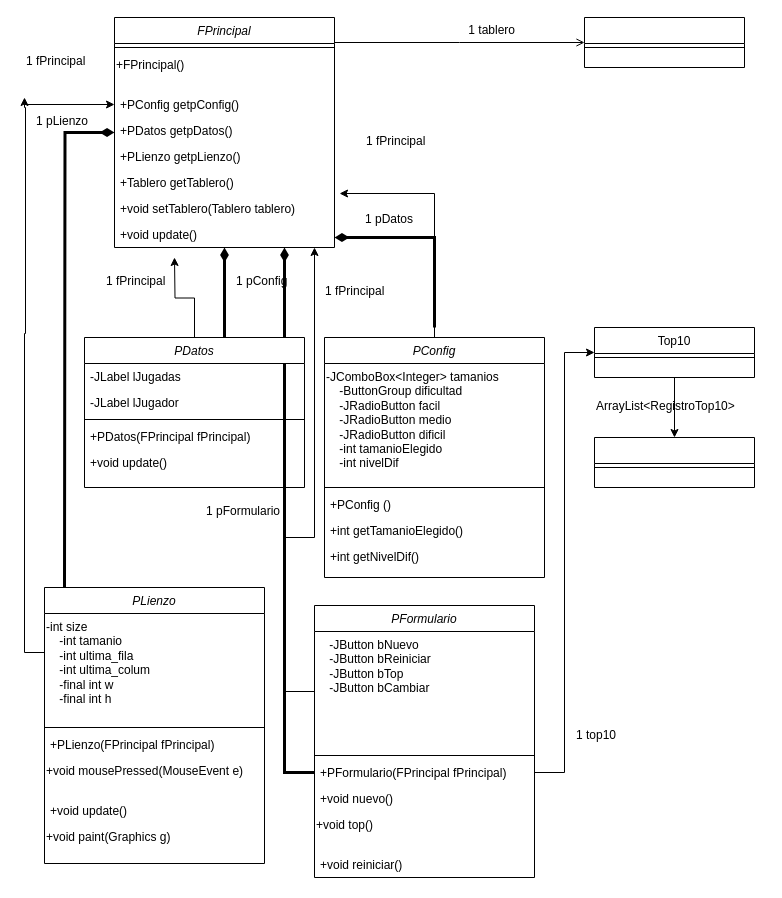
Image size: 782x898. Some labels were removed from this diagram. Here are the shapes that lost their labels. From the top down, the centre of each, then its label:
At (664,42): "Tablero".
At (674,462): "RegistroTop10".
